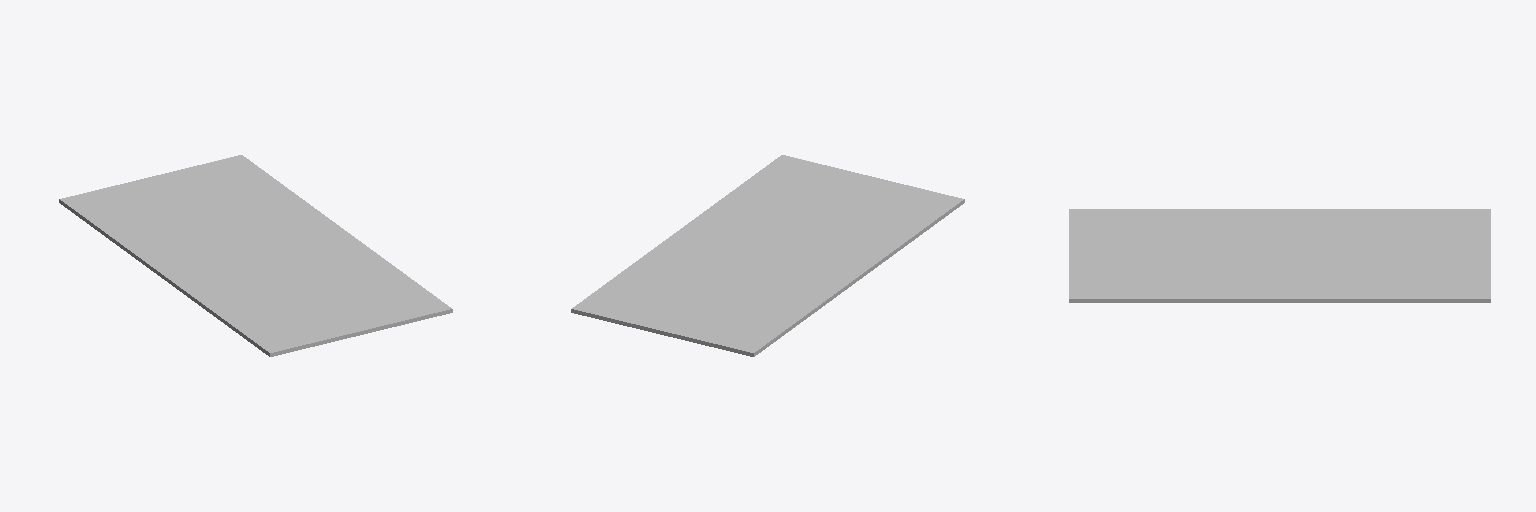
Rendered from Plate16_3x6.obj.
The picture shows the model from 3 angles: view 1: azimuth 30°, elevation 25°; view 2: azimuth 150°, elevation 25°; view 3: azimuth 270°, elevation 25°; orthographic projection.
Visible parts, largest first — view 1: Plate16_3x6_Cube.432; view 2: Plate16_3x6_Cube.432; view 3: Plate16_3x6_Cube.432.
Boxes of the visible parts, x1,y1,x2,y2 form: Plate16_3x6_Cube.432: [59, 155, 452, 356]; Plate16_3x6_Cube.432: [571, 155, 964, 356]; Plate16_3x6_Cube.432: [1069, 209, 1490, 302].
Bounding box in the file's own units: 3 × 0.0625 × 6.